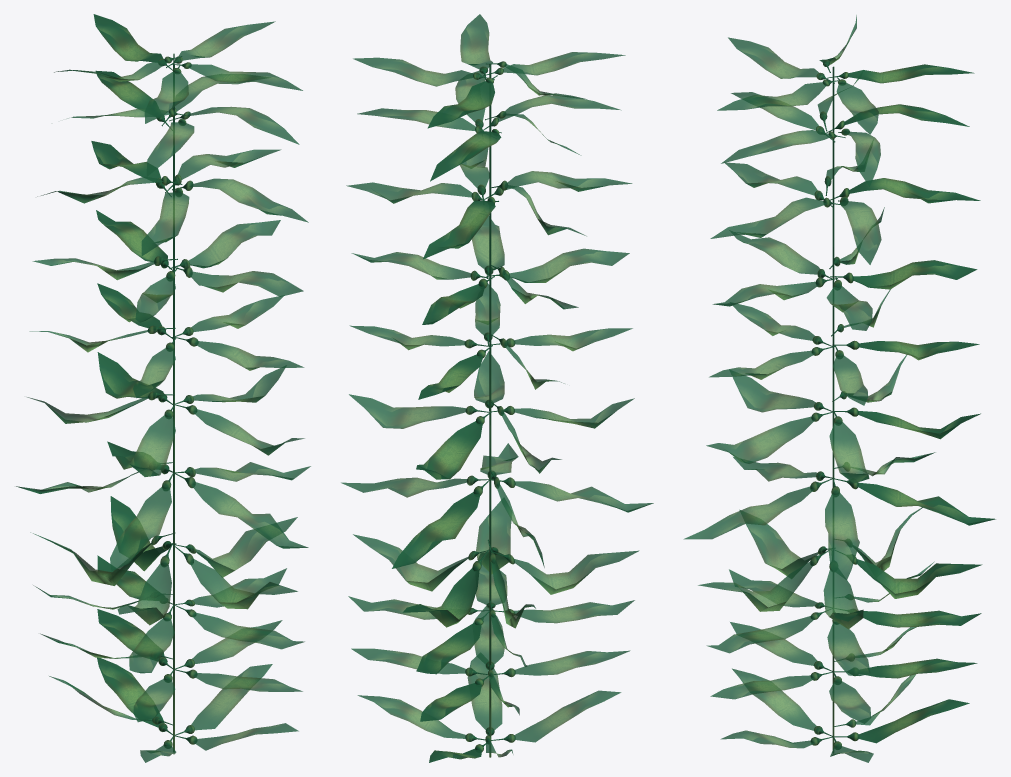
File: kelp.glb
3 views of the same model, side by side, from view 1: azimuth 30°, elevation 25°; view 2: azimuth 150°, elevation 25°; view 3: azimuth 270°, elevation 25° (orthographic).
Visible parts, largest first — view 1: Cylinder.004; view 2: Cylinder.004; view 3: Cylinder.004.
Part boxes in pixels (x1,y1,x2,y2): Cylinder.004: (16,14,310,762); Cylinder.004: (341,14,653,762); Cylinder.004: (683,15,995,762).
Bounding box in the file's own units: 20.02 × 50.89 × 20.99.
Materials: 1 (1 with a texture image).
